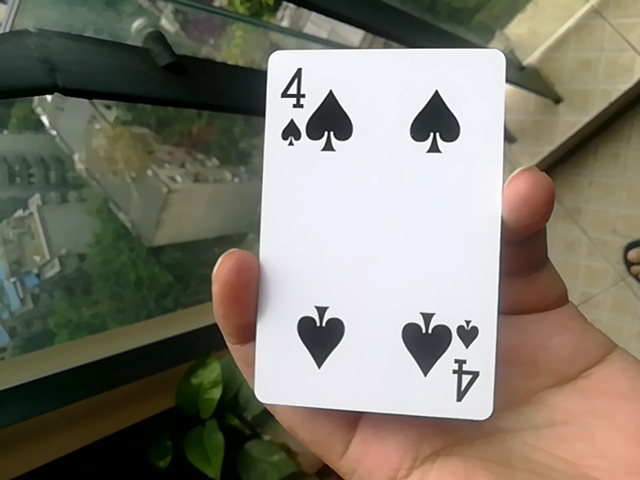ht 4: (249, 58, 510, 426)
